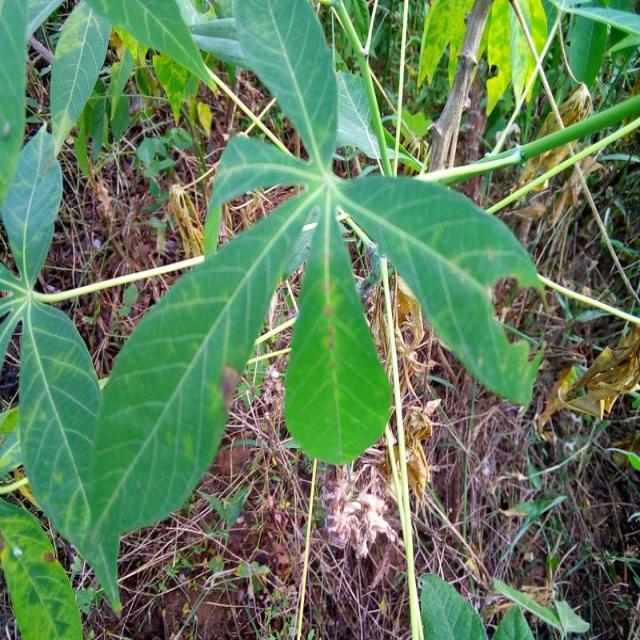cassava leaf: (82, 183, 323, 612), (334, 172, 549, 412), (284, 206, 394, 465)
